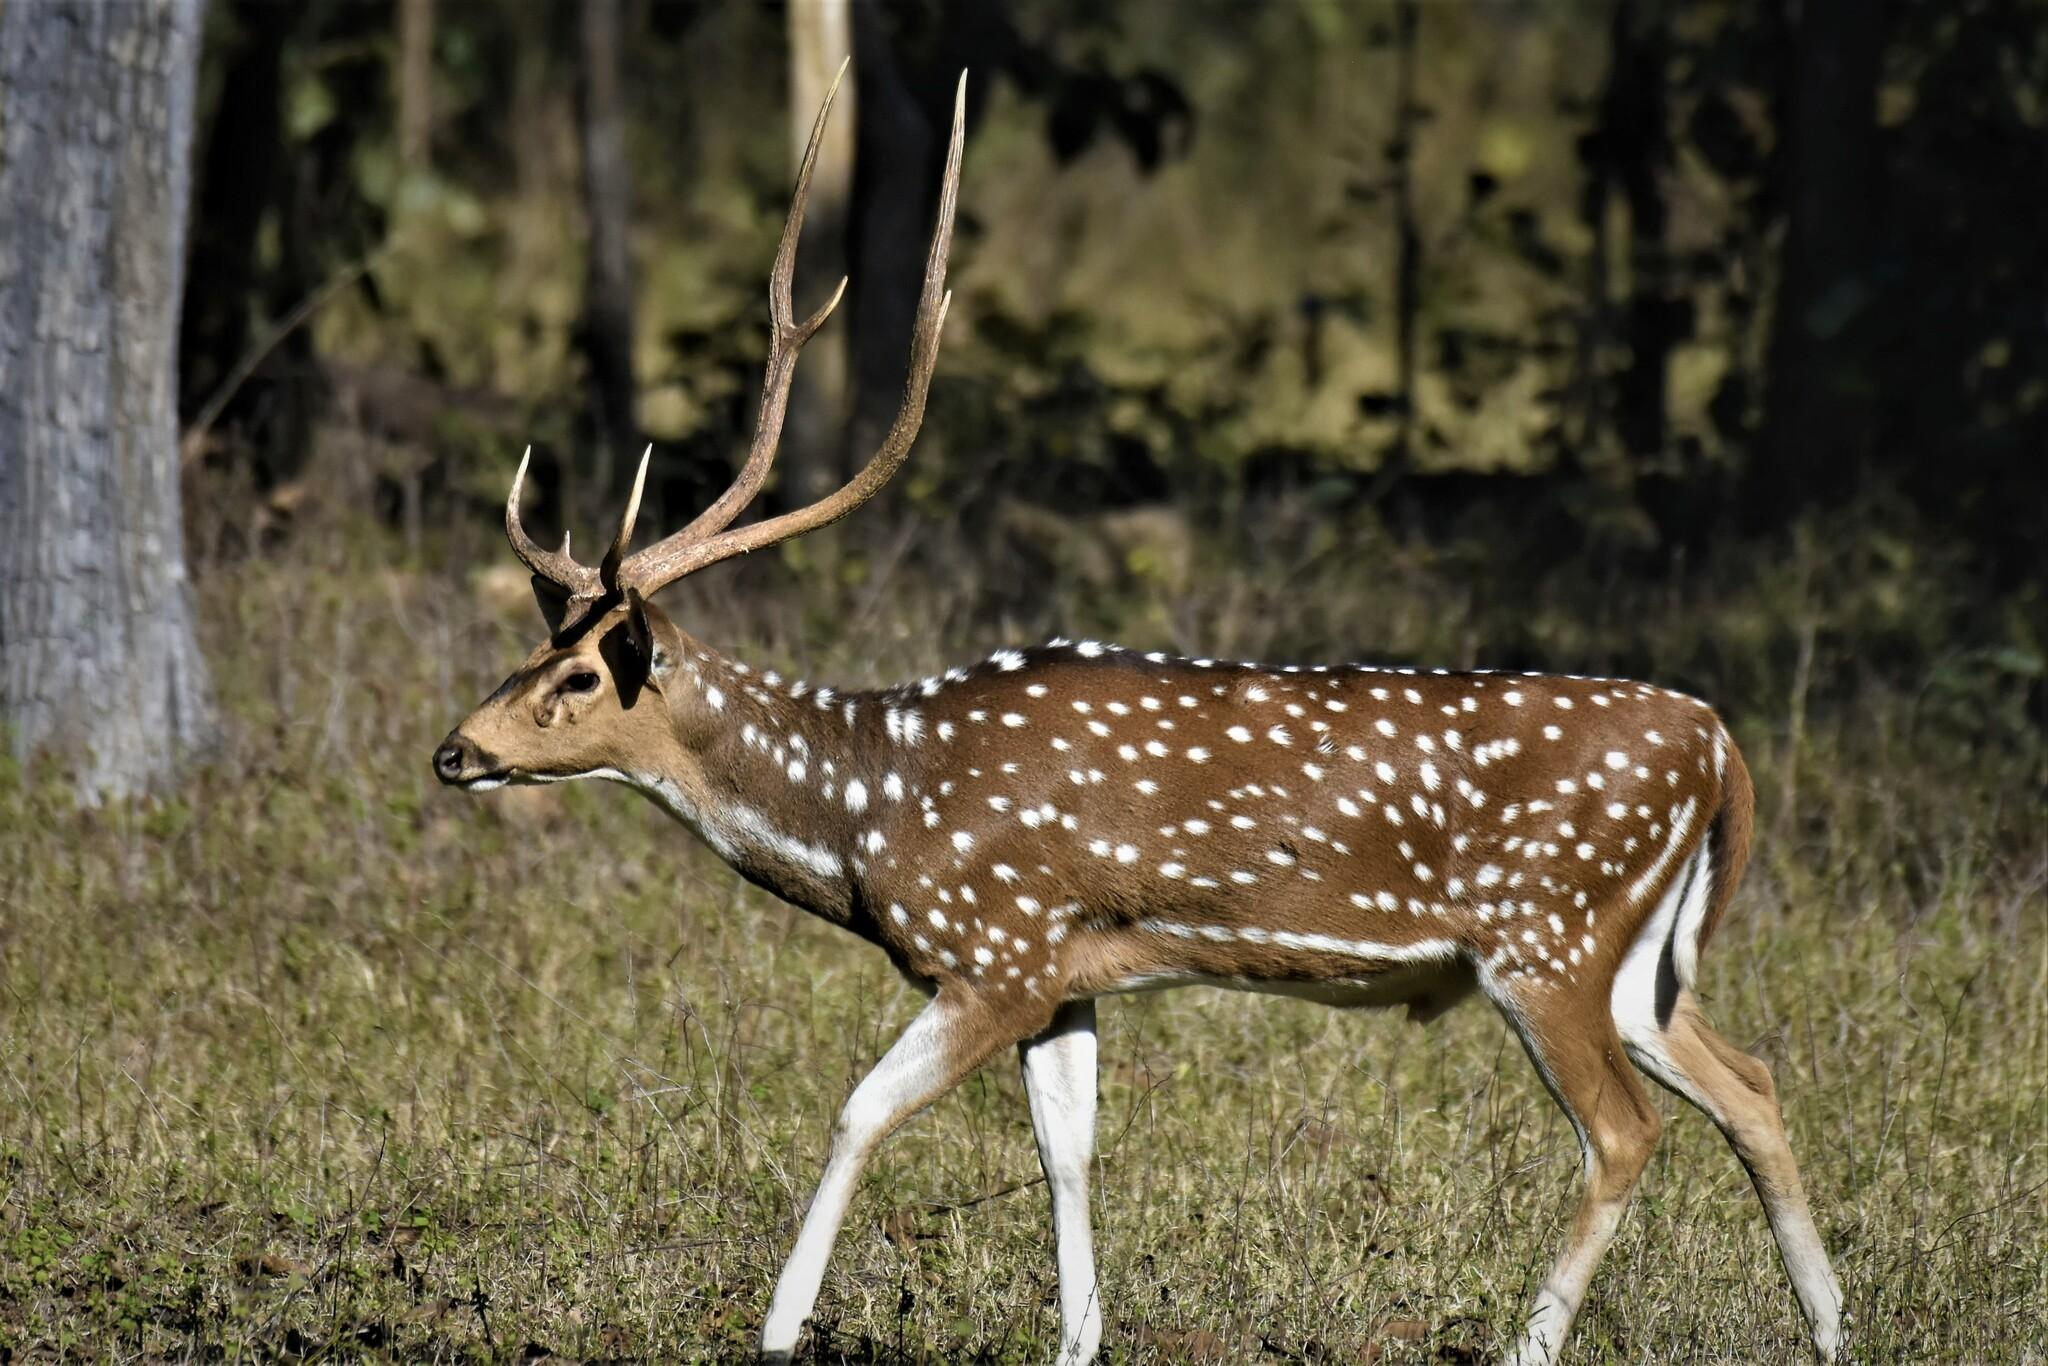Deer: (433, 42, 1840, 1365)
